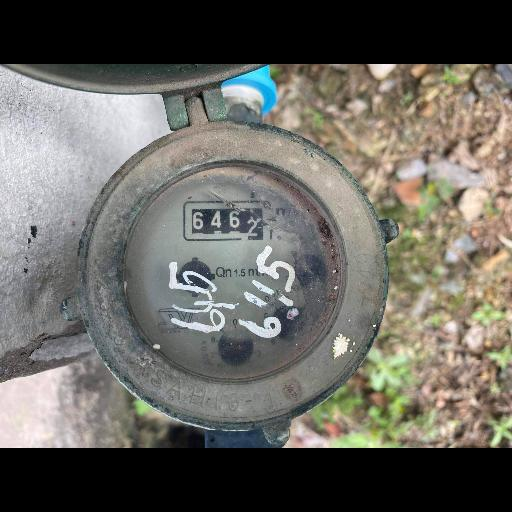2: (247, 208, 264, 240)
4: (208, 210, 227, 235)
6: (226, 209, 248, 234), (192, 210, 208, 235)
border_water_meter_number: (184, 201, 273, 241)
